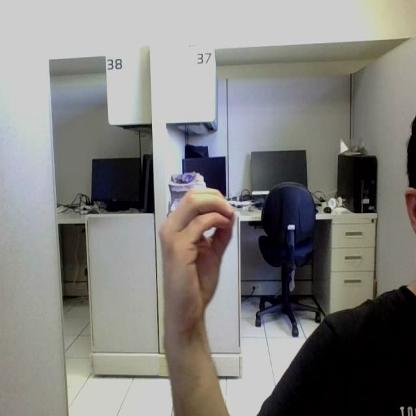O: (160, 188, 235, 325)
